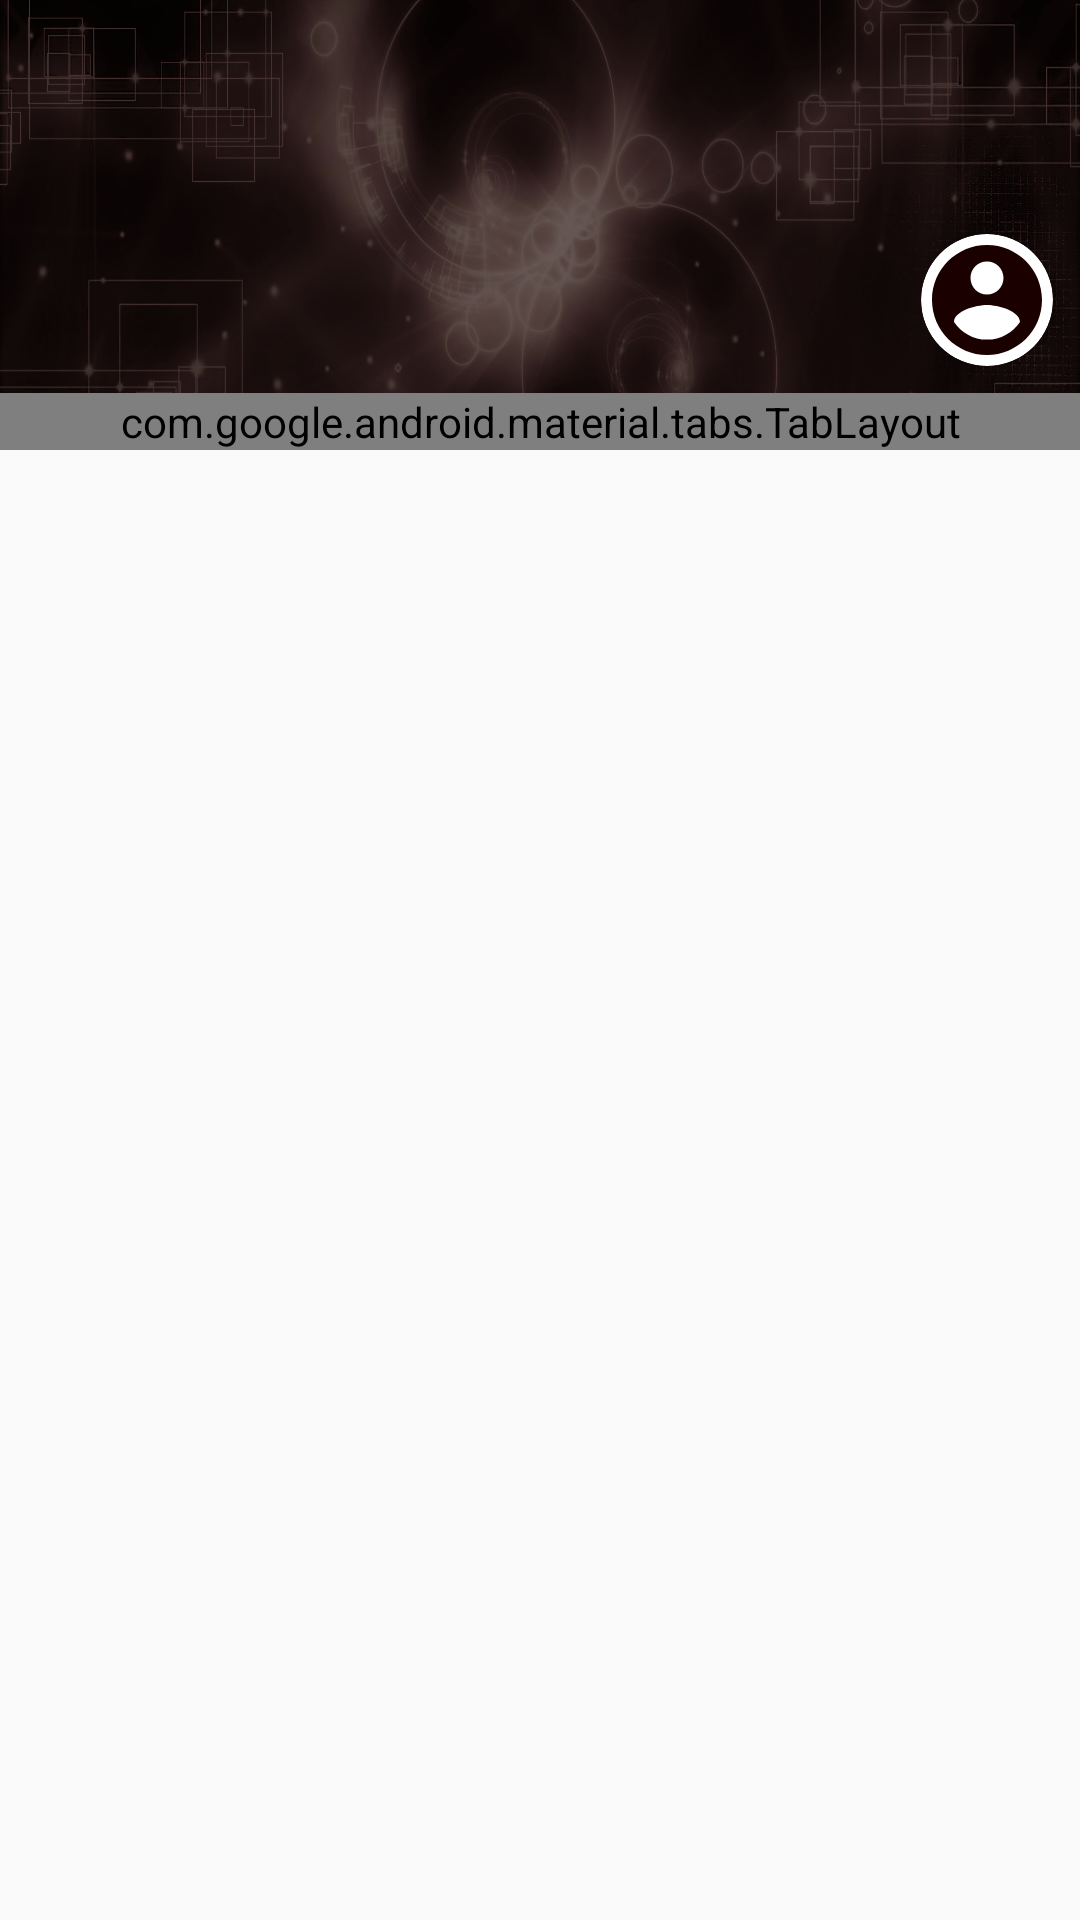

Icon click points for this 1080x1920 phone screenshot, format (x=x, y=y):
account circle: (x=987, y=300)
